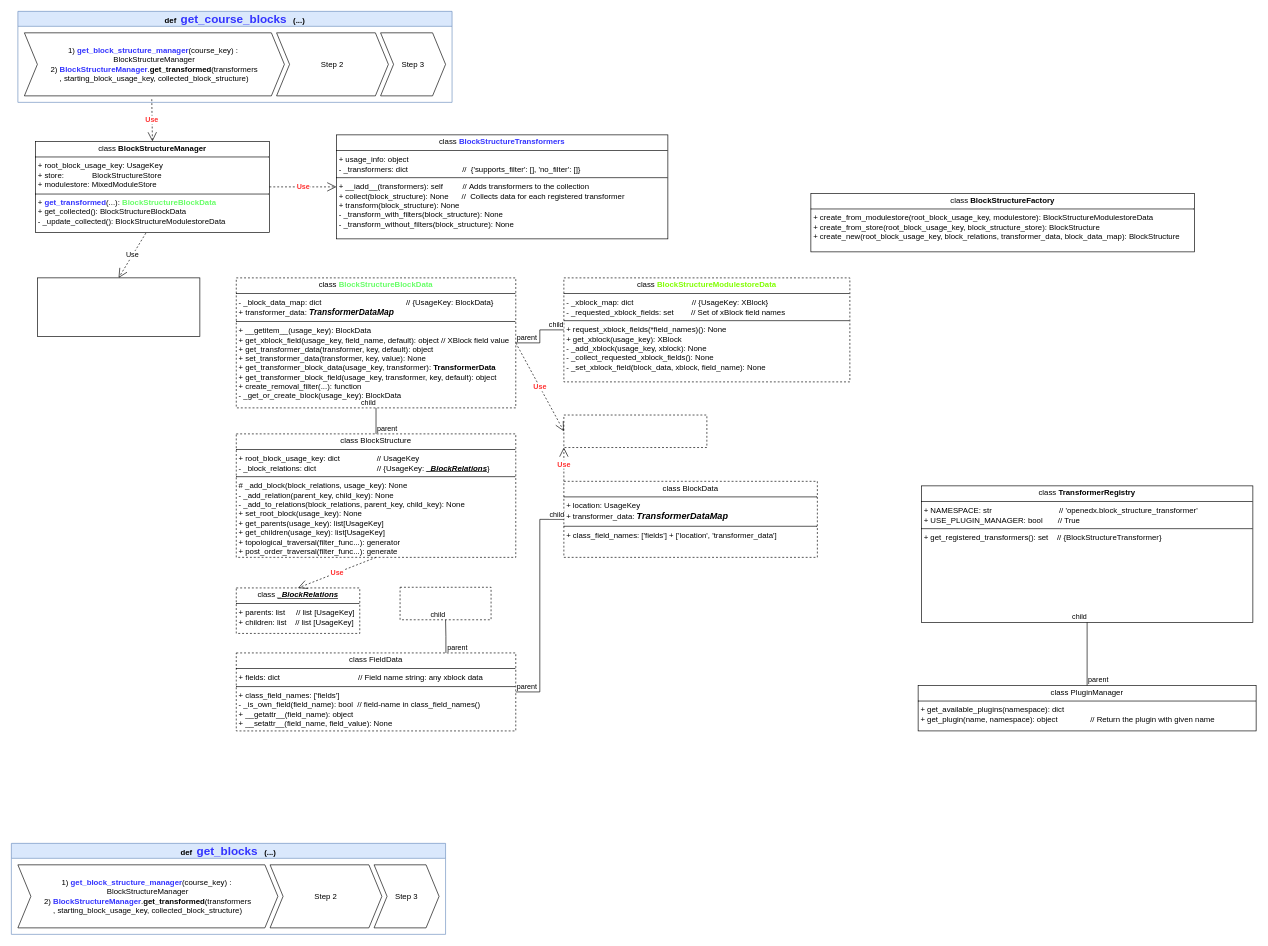
Image size: 1268x946. Some labels were removed from this diagram. Each missing label, with the box of its shape:
class BlockStructureStore - _cache: django.cache + method(): Type: (37, 277, 200, 336)
class TransformerData: (399, 587, 491, 620)
class TransformerDataMap (dict): (563, 414, 707, 448)
